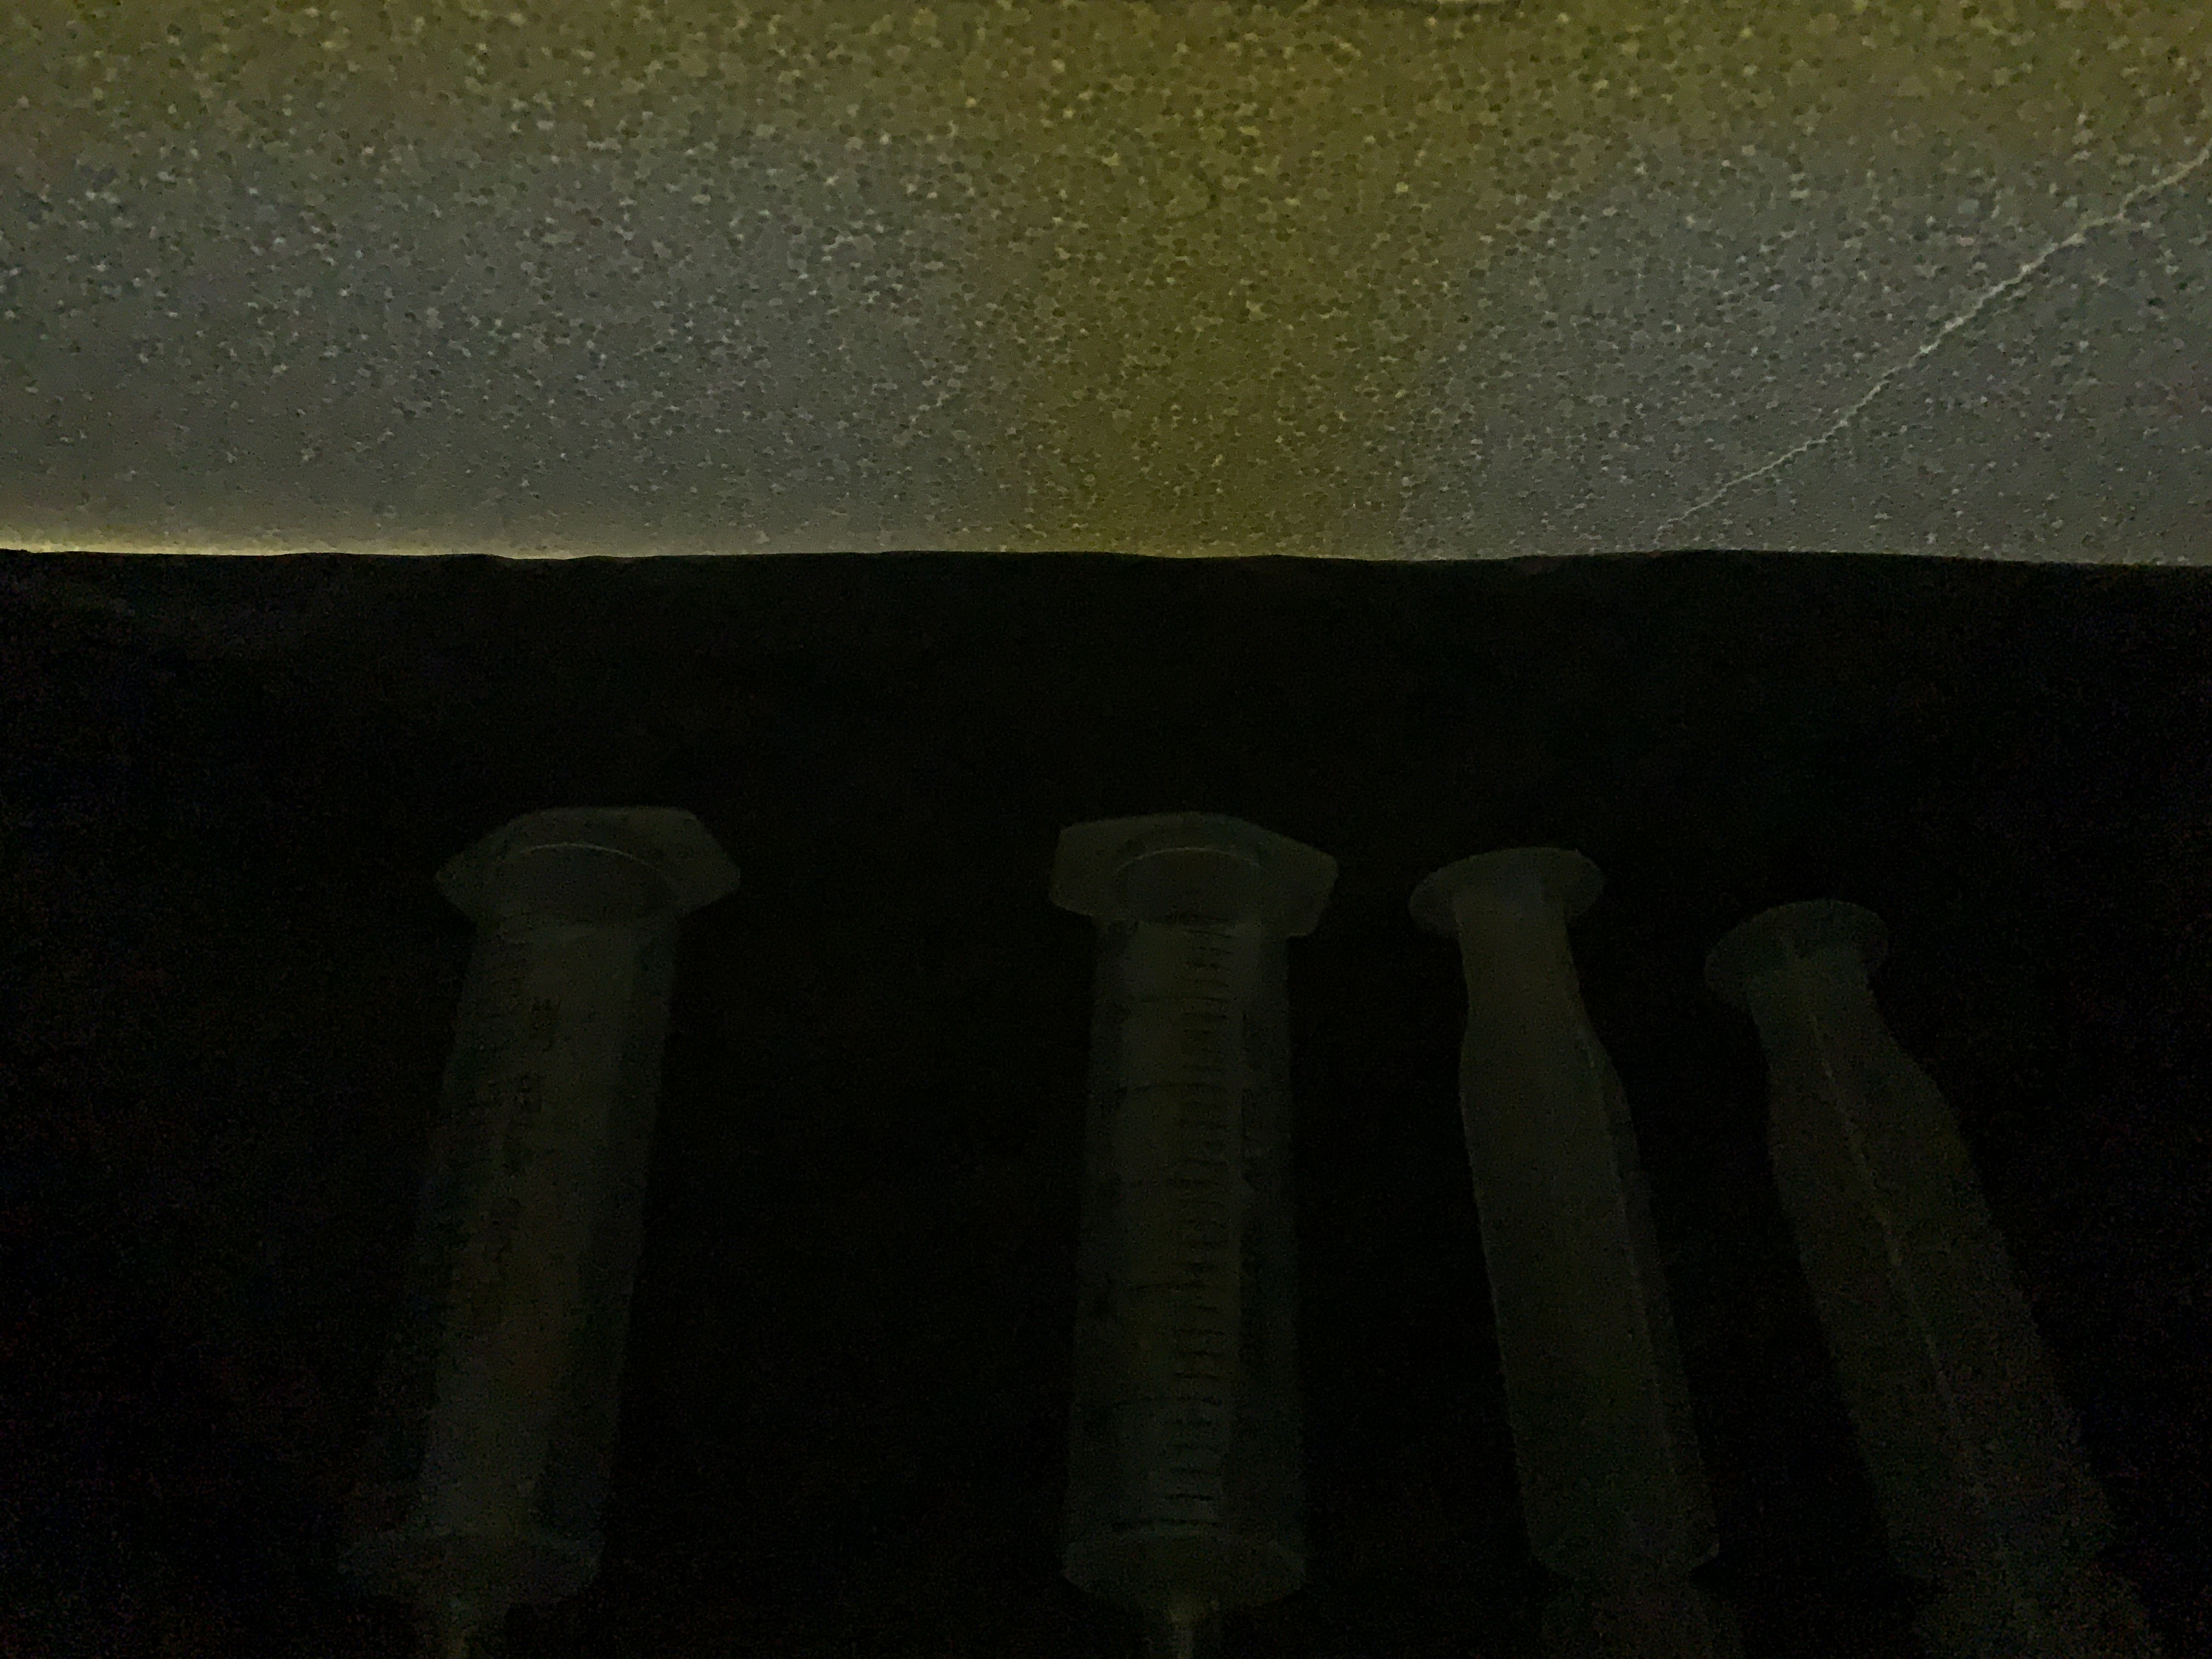plunger: (1698, 885, 2177, 1659), (1404, 842, 1742, 1659)
syringe: (333, 795, 742, 1659), (1036, 791, 1345, 1654)
